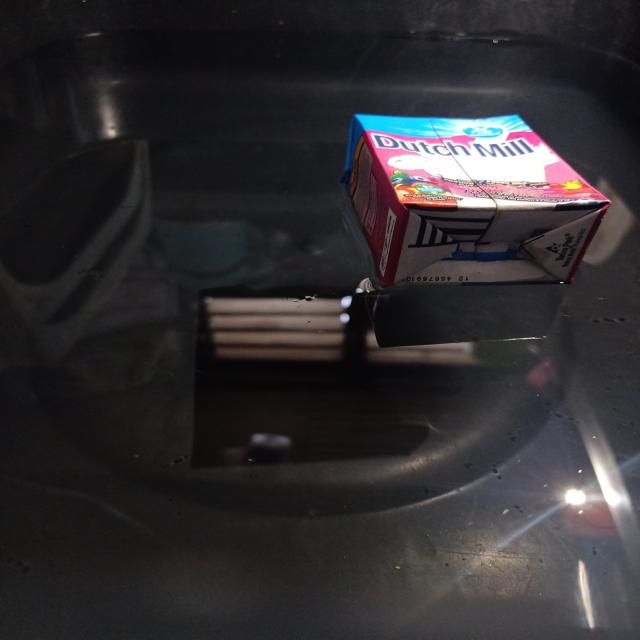Cardboard Box: (341, 114, 610, 287)
